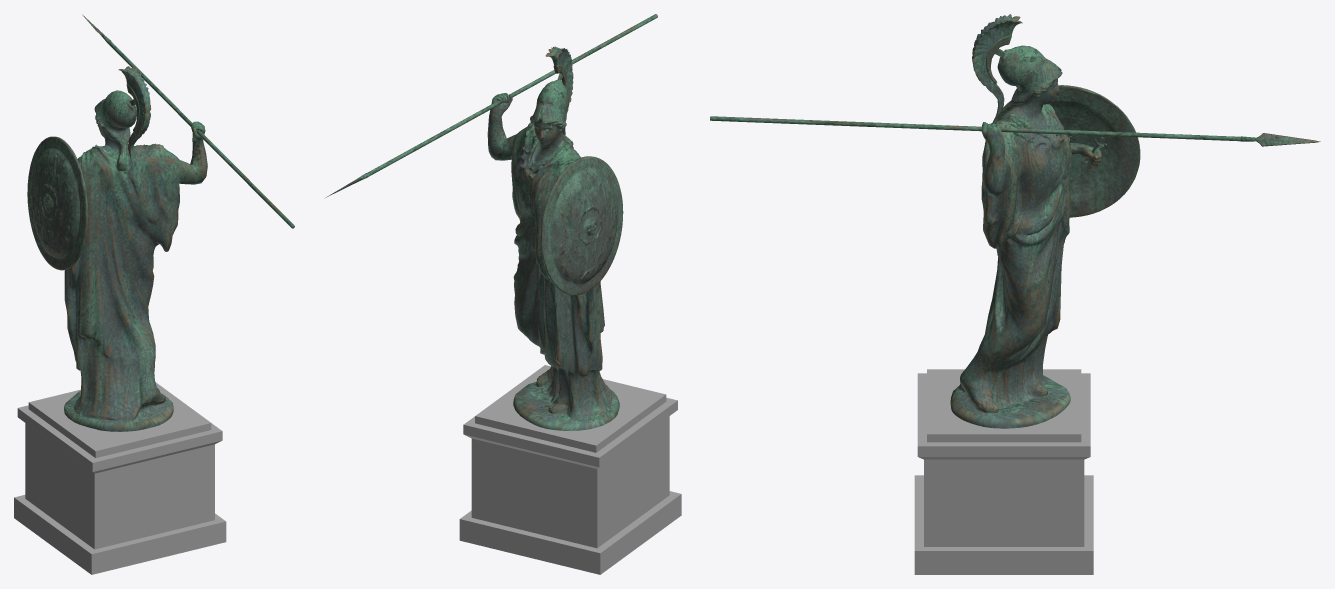
File: AthenaPromachos.fbx
3 views of the same model, side by side, from view 1: azimuth 30°, elevation 25°; view 2: azimuth 150°, elevation 25°; view 3: azimuth 270°, elevation 25° (orthographic). The views are drawn at different scales.
Visible parts, largest first — view 1: Athena_Promachos, Promachos_Base; view 2: Athena_Promachos, Promachos_Base; view 3: Athena_Promachos, Promachos_Base.
Boxes of the visible parts, x1,y1,x2,y2 form: Athena_Promachos: (27, 14, 294, 431); Promachos_Base: (14, 382, 226, 574); Athena_Promachos: (324, 14, 657, 430); Promachos_Base: (459, 365, 681, 574); Athena_Promachos: (710, 14, 1320, 428); Promachos_Base: (914, 369, 1093, 574).
Bounding box in the file's own units: 6.22 × 16.3 × 17.15.
3 materials, 2 textured.
